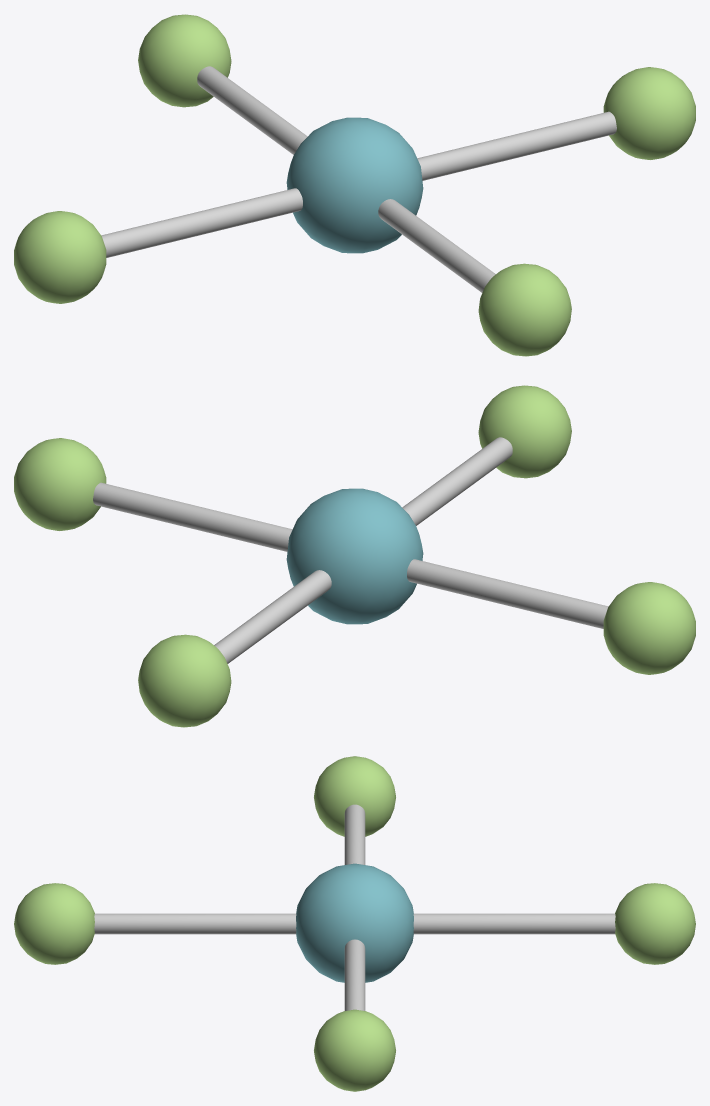
Rendered from XEF4.fbx.
3 views of the same model, one above another, from view 1: azimuth 30°, elevation 25°; view 2: azimuth 150°, elevation 25°; view 3: azimuth 270°, elevation 25° (orthographic). The views are drawn at different scales.
Parts seen in each view (by area): view 1: Atom_0_XE, Atom_3_F, Atom_4_F, Atom_2_F, Atom_5_F, Bond_002, Bond, Bond_001, Bond_003; view 2: Atom_0_XE, Atom_5_F, Atom_4_F, Atom_2_F, Atom_3_F, Bond_002, Bond, Bond_003, Bond_001; view 3: Atom_0_XE, Atom_2_F, Atom_5_F, Atom_3_F, Atom_4_F, Bond_003, Bond_001, Bond, Bond_002.
Part boxes in pixels (x1,y1,x2,y2): Atom_0_XE: [286, 117, 423, 253]; Atom_3_F: [478, 263, 571, 356]; Atom_4_F: [14, 211, 106, 303]; Atom_2_F: [603, 67, 695, 159]; Atom_5_F: [138, 14, 231, 107]; Bond_002: [101, 188, 302, 257]; Bond: [417, 111, 616, 180]; Bond_001: [378, 199, 495, 292]; Bond_003: [197, 66, 307, 154]; Atom_0_XE: [286, 488, 423, 624]; Atom_5_F: [138, 634, 231, 727]; Atom_4_F: [603, 582, 695, 674]; Atom_2_F: [14, 438, 106, 530]; Atom_3_F: [478, 385, 571, 478]; Bond_002: [407, 559, 608, 628]; Bond: [93, 482, 292, 551]; Bond_003: [214, 570, 331, 663]; Bond_001: [402, 437, 512, 525]; Atom_0_XE: [296, 863, 413, 982]; Atom_2_F: [314, 1009, 395, 1091]; Atom_5_F: [615, 883, 695, 964]; Atom_3_F: [14, 883, 94, 964]; Atom_4_F: [314, 756, 395, 836]; Bond_003: [413, 913, 615, 934]; Bond_001: [94, 913, 296, 934]; Bond: [344, 939, 365, 1010]; Bond_002: [344, 804, 365, 864].
Bounding box in the file's own units: 4.87 × 0.864 × 4.87.
